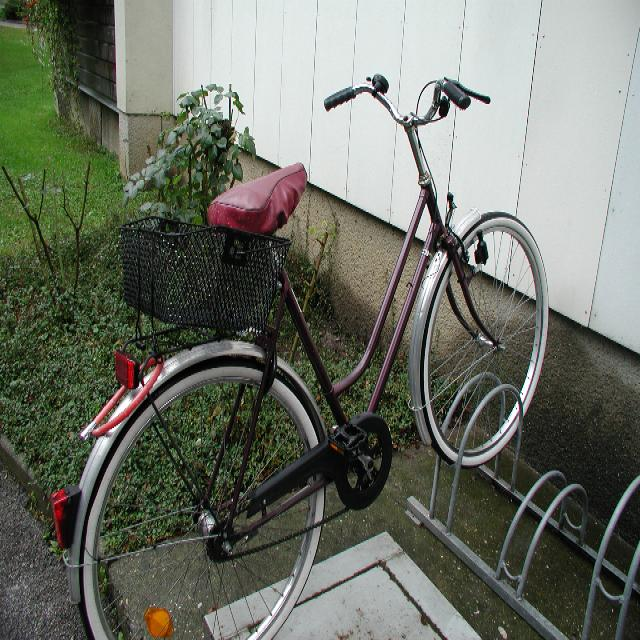bicycle: (51, 72, 549, 639)
